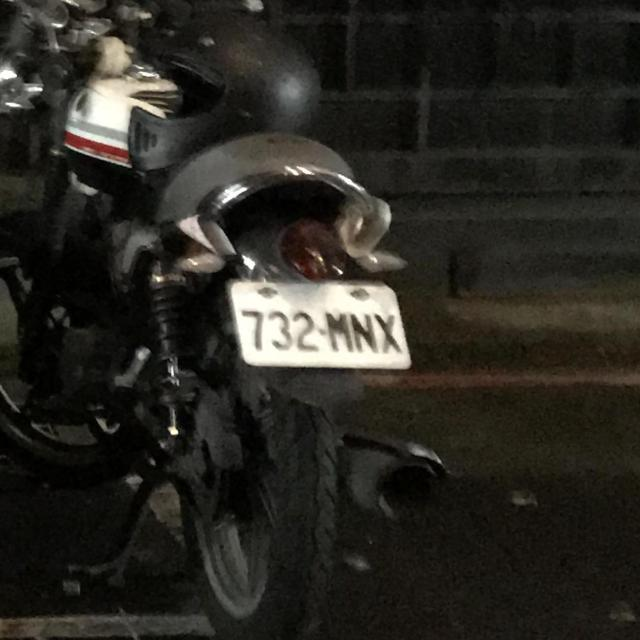W: (220, 254, 420, 394)
